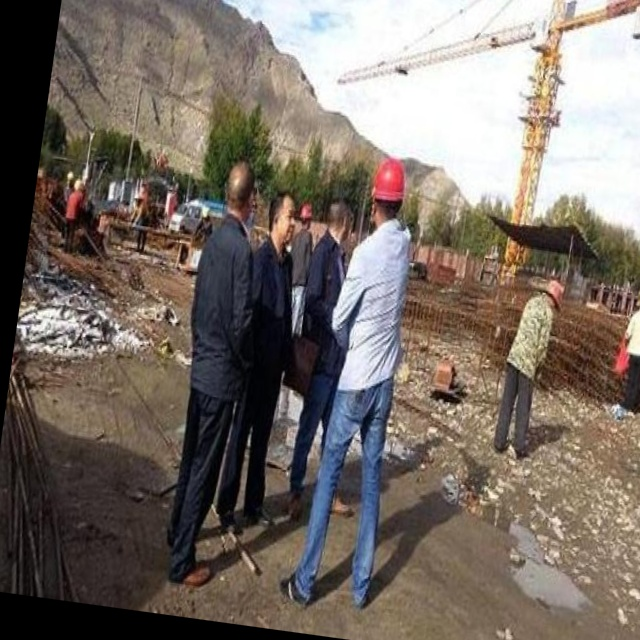Con_Casco: (367, 158, 409, 221)
Sin_Casco_Mascarrilla: (221, 156, 260, 219)
Sin_Chaleco: (337, 217, 415, 384)
